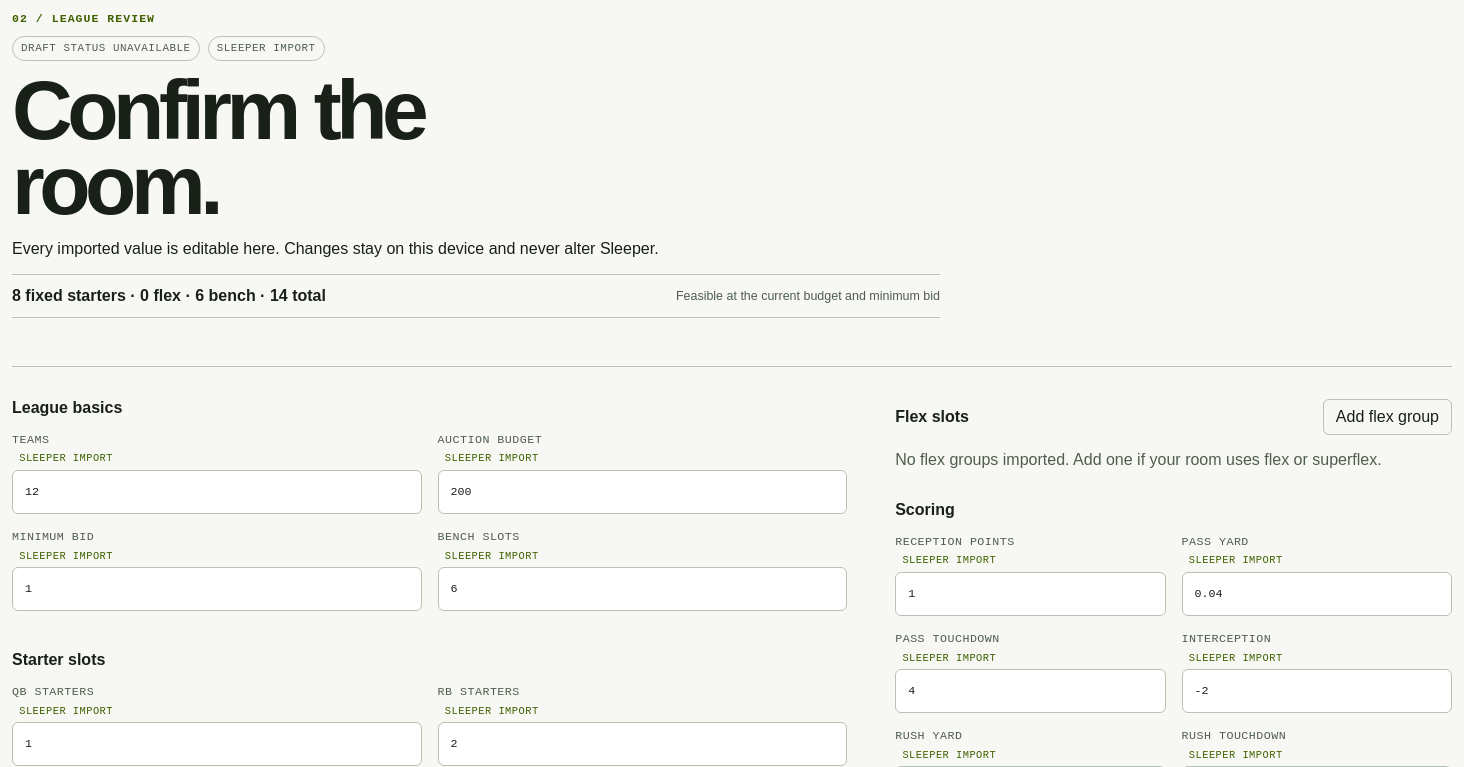
Test case: LeagueReview › adds and removes flex groups and shows the derived roster summary
Expected: the text "8 fixed starters · 0 flex · 6 bench · 14 total" is shown, [12,287,326,305]
Expected: the text "Feasible at the current budget and minimum bid" is shown, [676,289,940,303]
Click the button "Add flex group": [1387, 417] box [1323,399,1452,435]
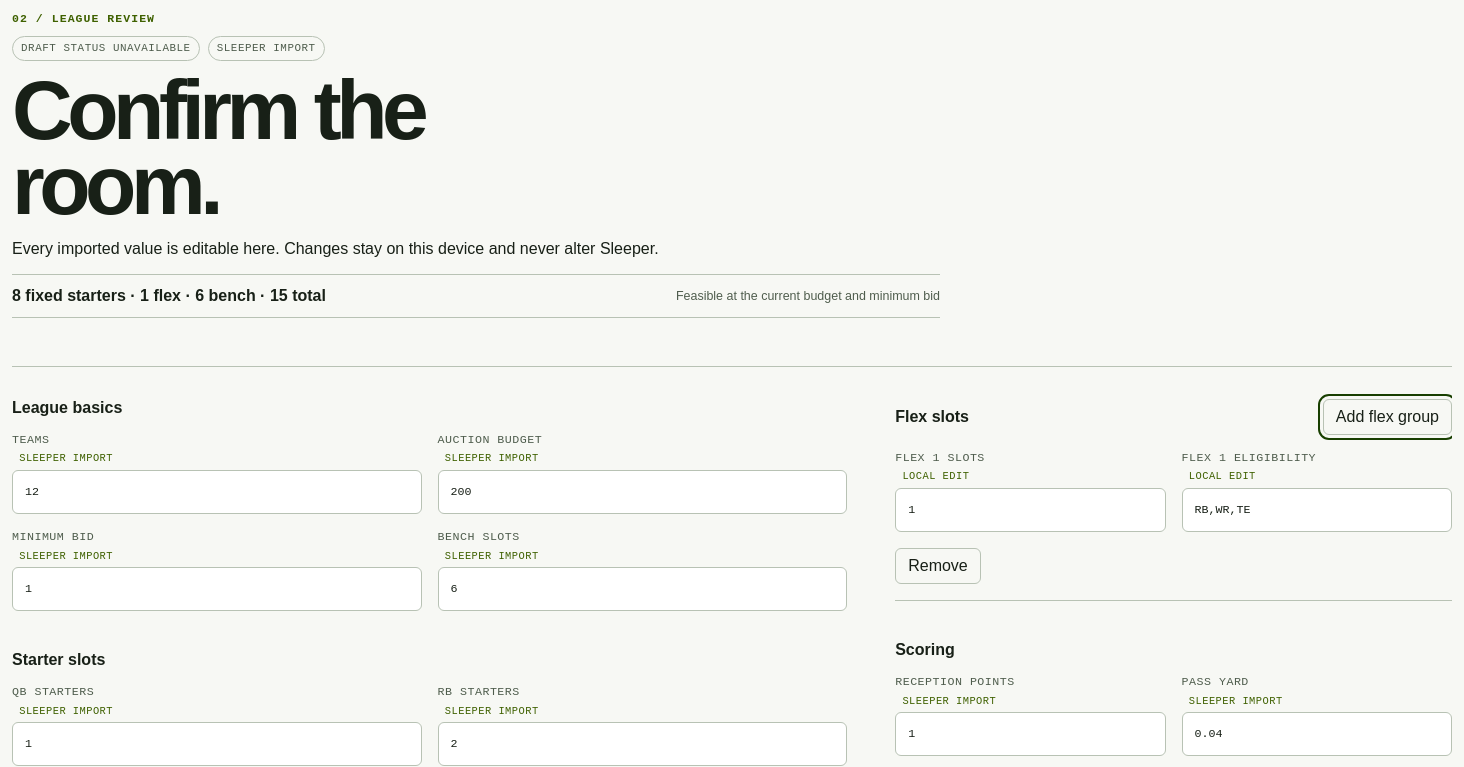
Expected: the field labelled "Flex 1 slots" is shown, [895,488,1166,532]
Expected: the text "8 fixed starters · 1 flex · 6 bench · 15 total" is shown, [12,287,326,305]
Click the button with aria-label "Remove flex group 1": [938, 566] box [895,548,981,584]
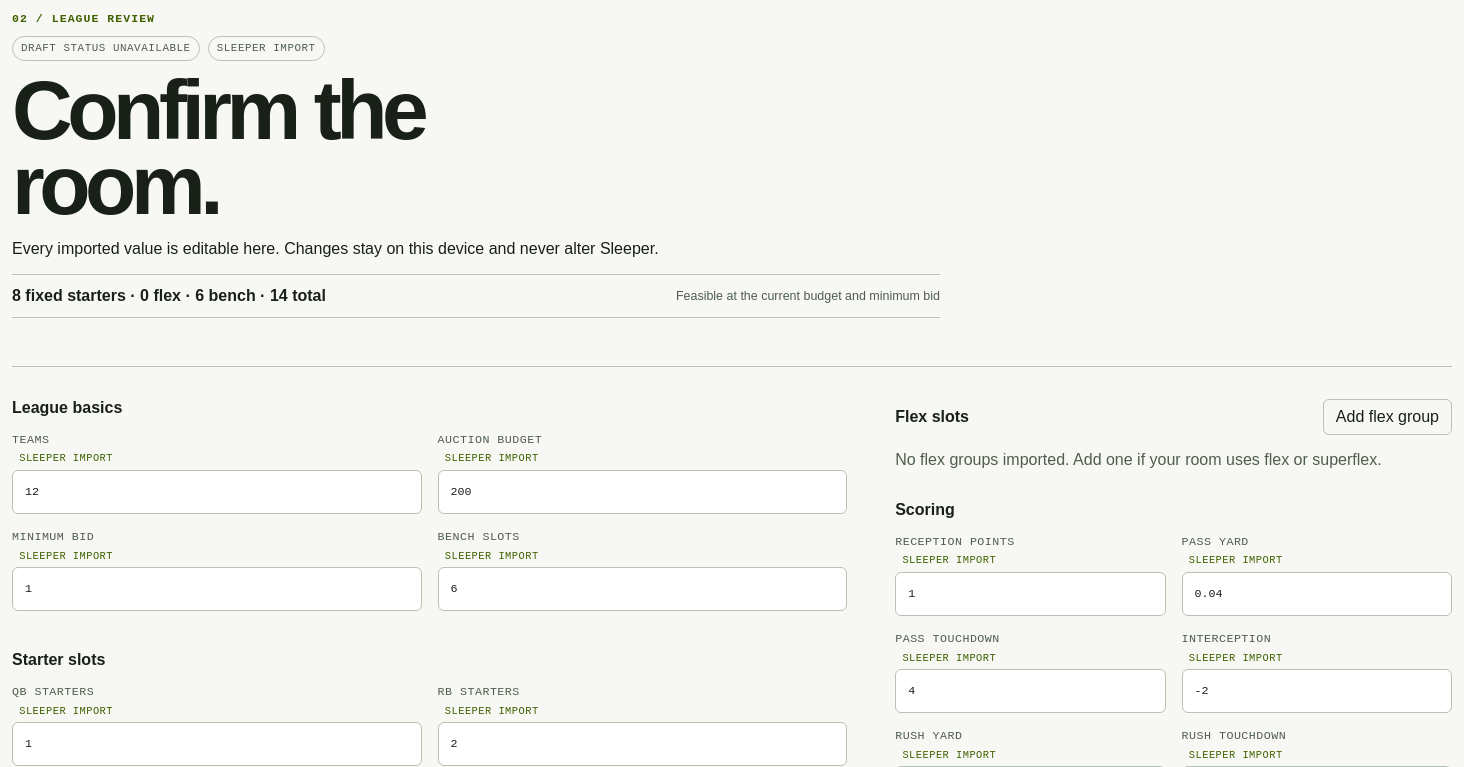
Expected: the label labelled "Flex 1 slots" is gone
